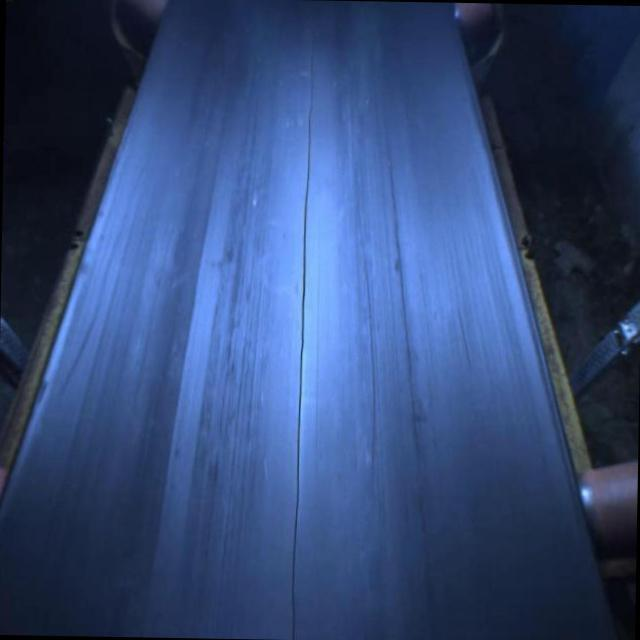Tear: (279, 56, 318, 640)
